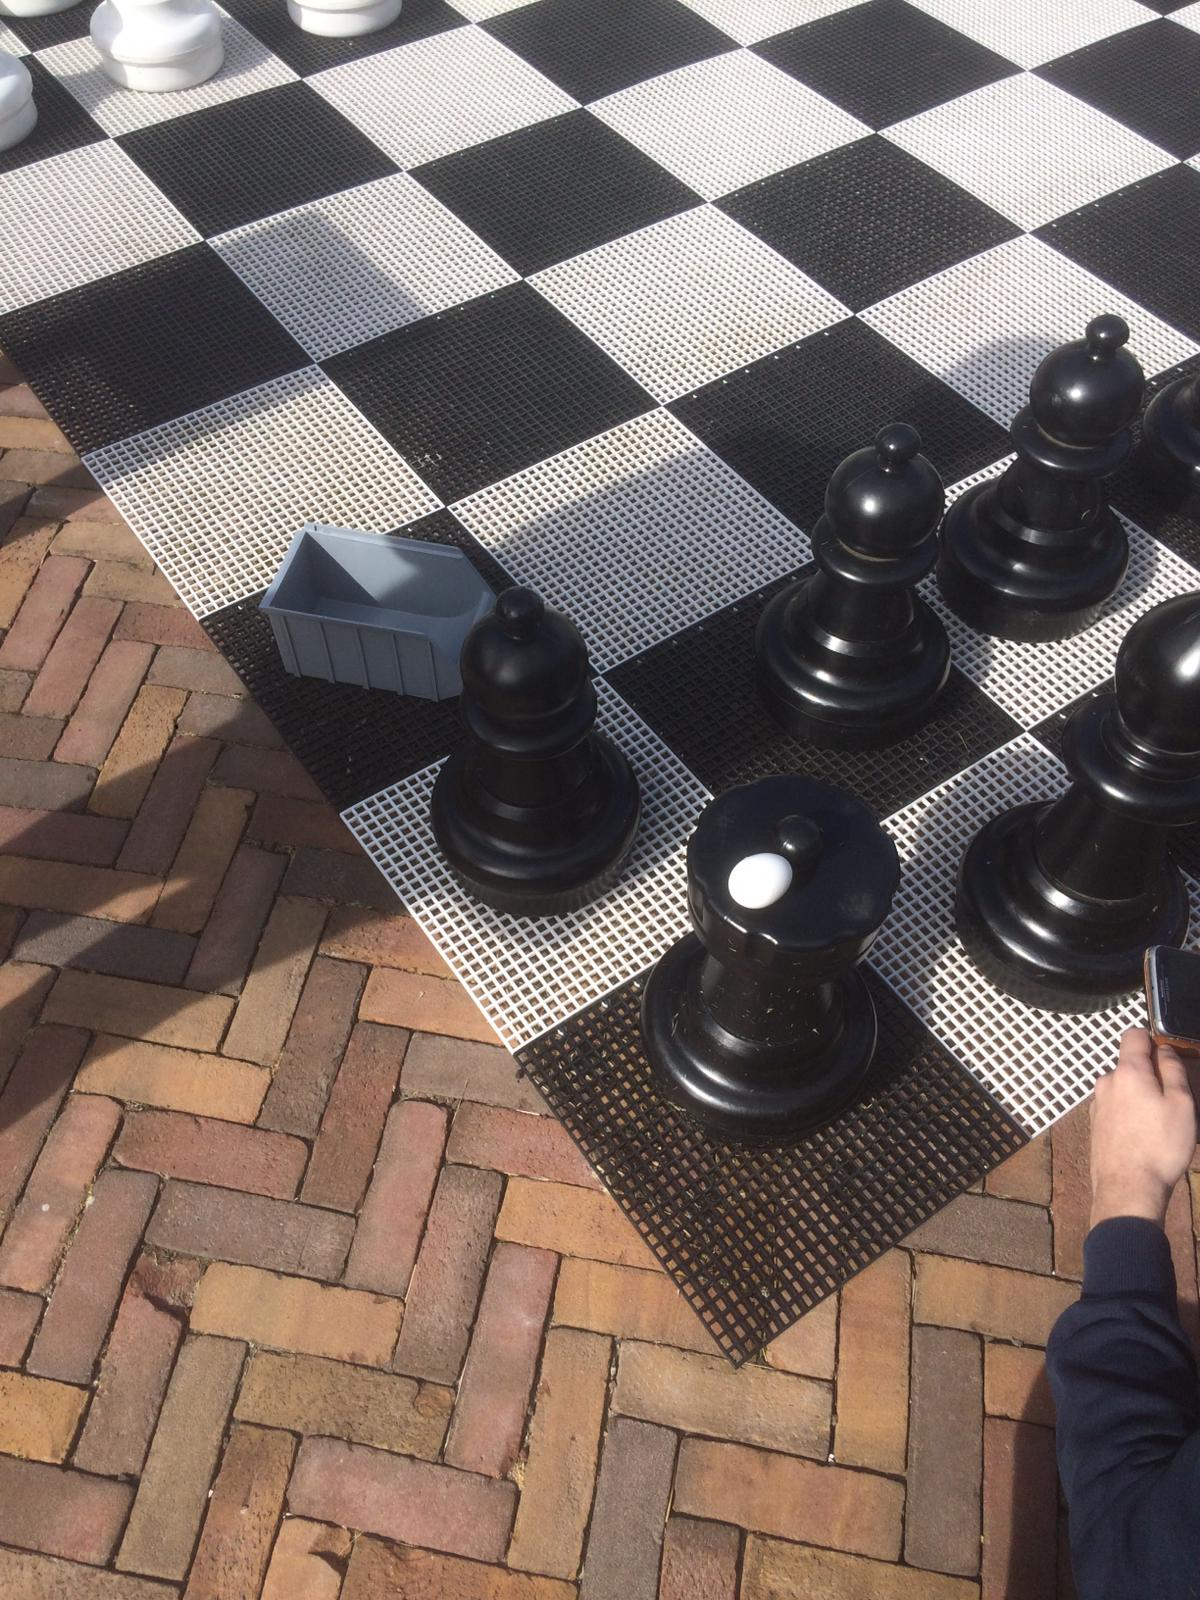tray_left: (253, 593, 466, 713)
